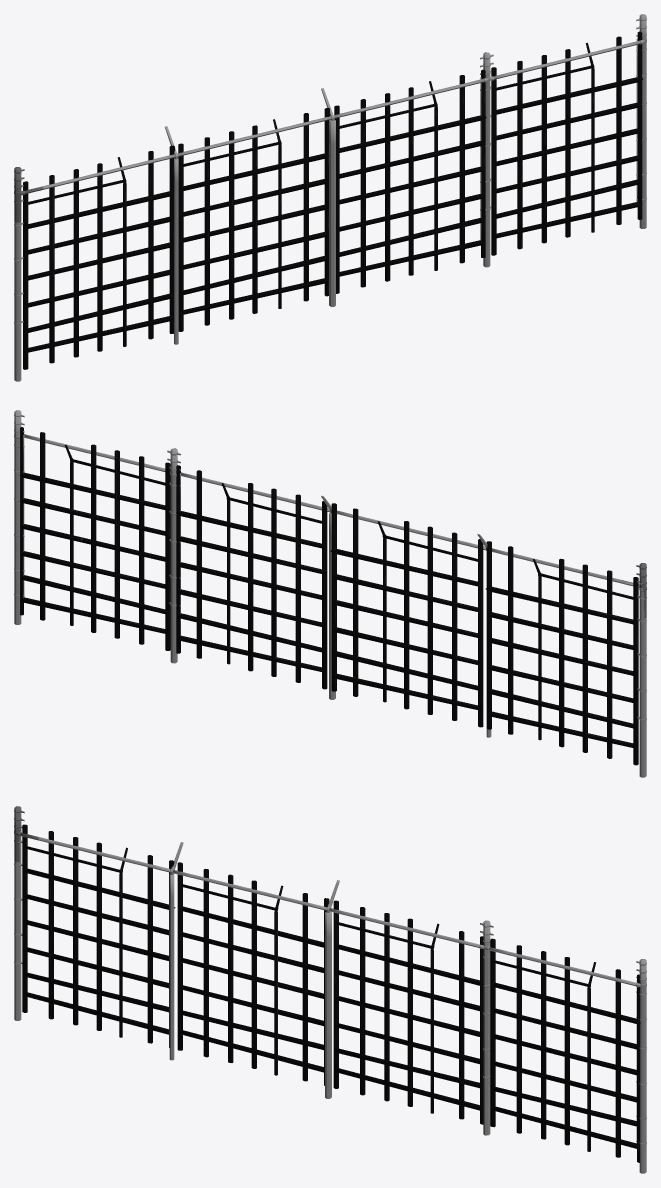
The model's file is wire1.fbx.
The picture shows the model from 3 angles, top to bottom: view 1: azimuth 30°, elevation 25°; view 2: azimuth 150°, elevation 25°; view 3: azimuth 330°, elevation 25°; orthographic projection.
Visible parts, largest first — view 1: wire.004, Metal posts; view 2: wire.004, Metal posts; view 3: wire.004, Metal posts.
Boxes of the visible parts, <box> form: wire.004: <box>23,31,642,369</box>; Metal posts: <box>14,14,646,381</box>; wire.004: <box>19,427,638,765</box>; Metal posts: <box>14,410,646,777</box>; wire.004: <box>22,824,640,1162</box>; Metal posts: <box>14,806,646,1173</box>.
Bounding box in the file's own units: 1099 × 355 × 37.02.
2 materials, 2 textured.
